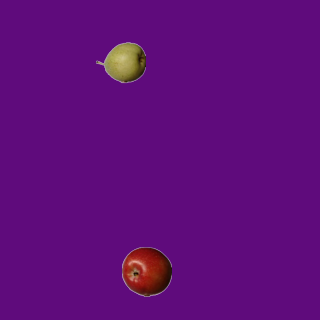Apple Braeburn: (121, 246, 171, 296)
Pear: (95, 37, 145, 87)
